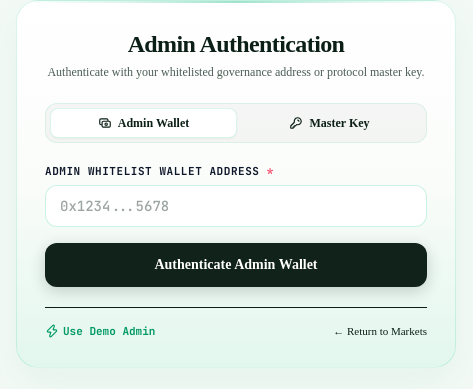
Test: AdminLoginForm Component › fills demo credentials with quick fill button
Step 1. Click the button "Use Demo Admin" → click(100, 331), box [45,324,155,339]
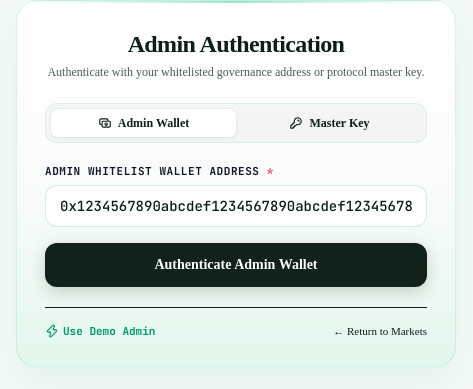
Check: the field labelled "Admin Whitelist Wallet Address *" holds "0x1234567890abcdef1234567890abcdef12345678", box [45,185,427,227]
